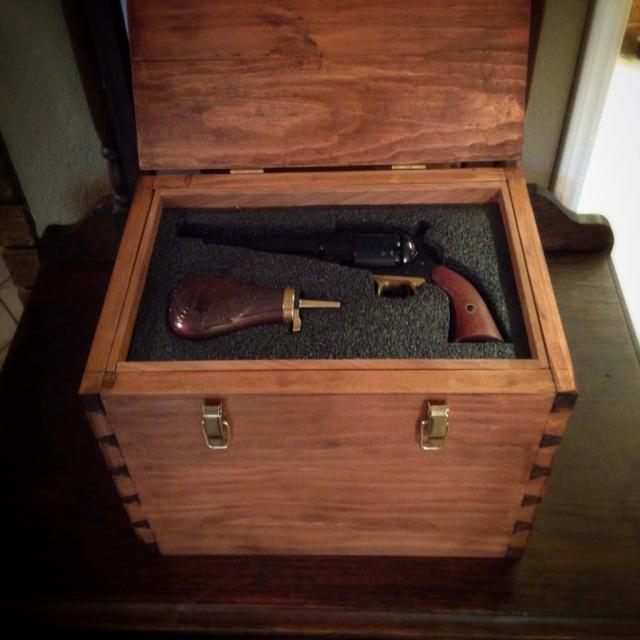weapon: (171, 217, 504, 342)
